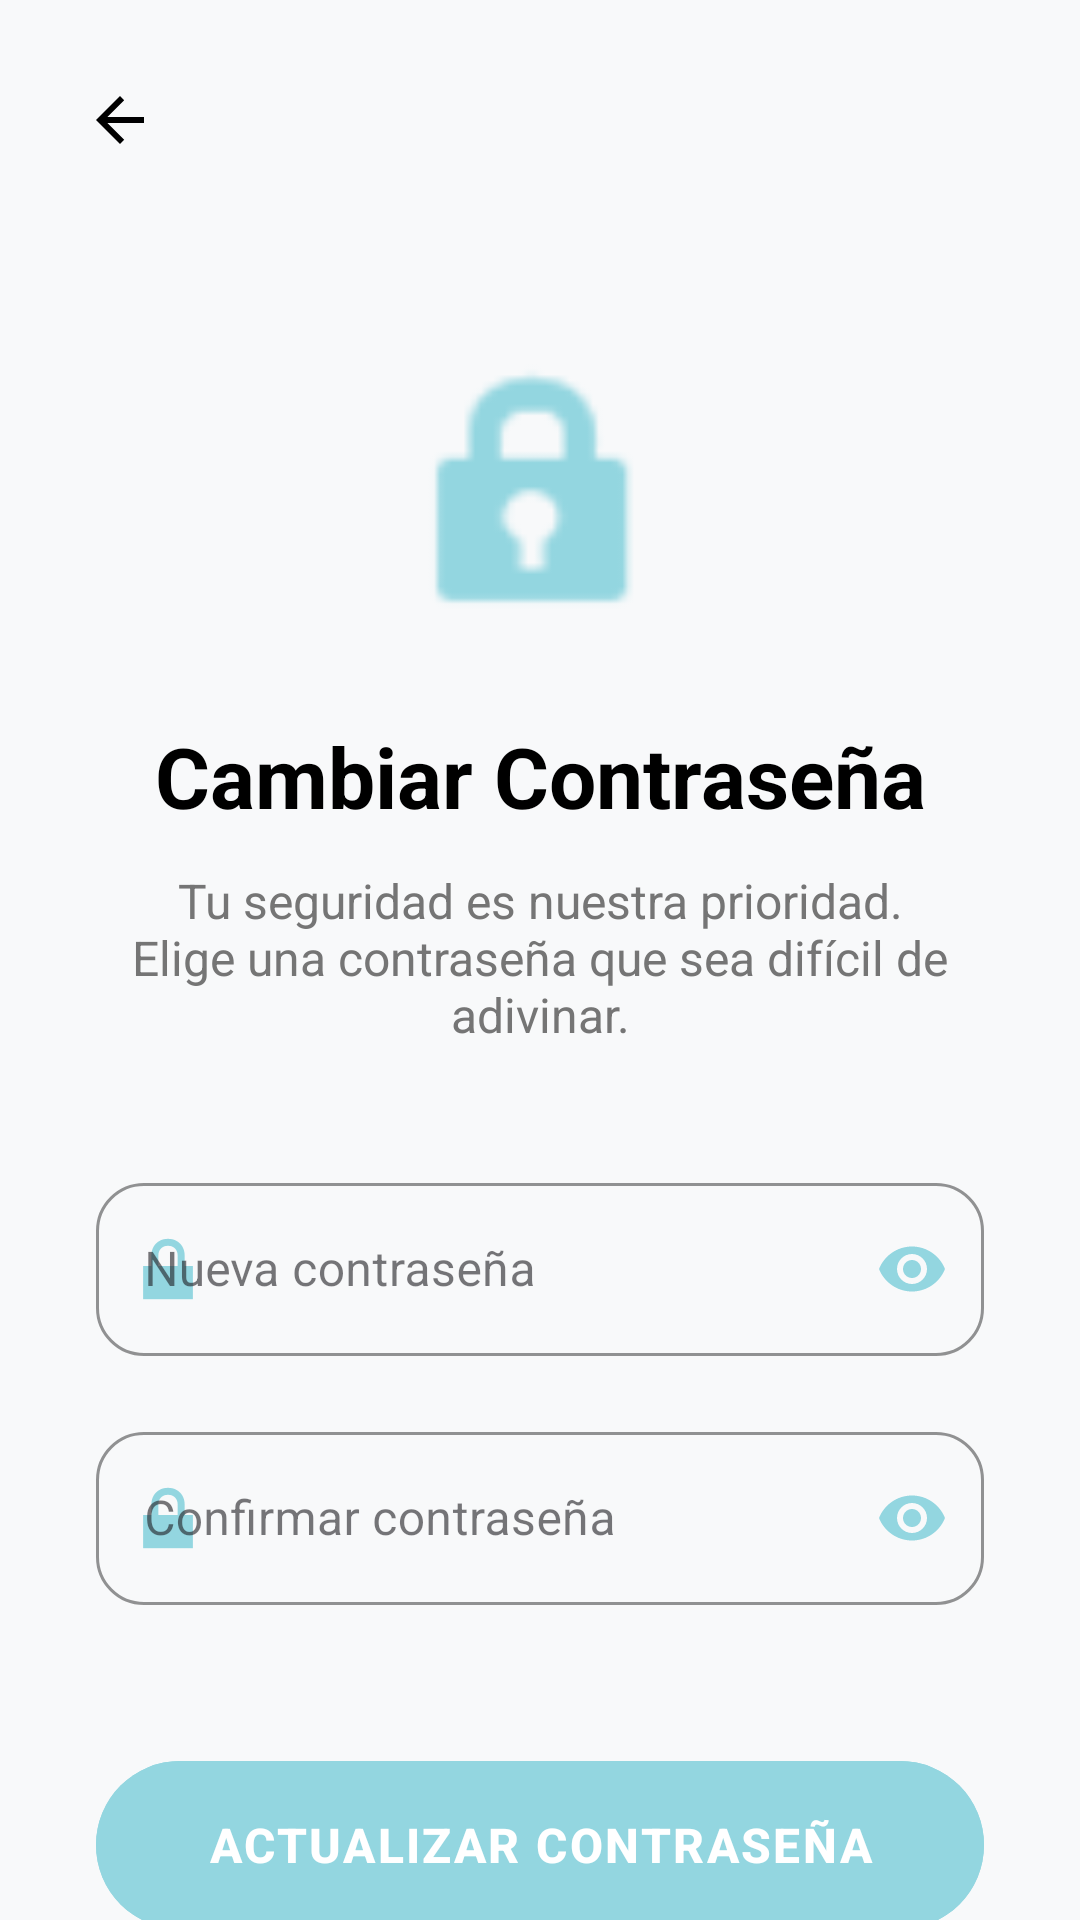

Named icons in this screenshot (1080x1920) and their bounding boxes, (x1, y1, x2, y2):
Icono de seguridad: (435, 375, 629, 603)
Volver: (96, 96, 144, 144)
